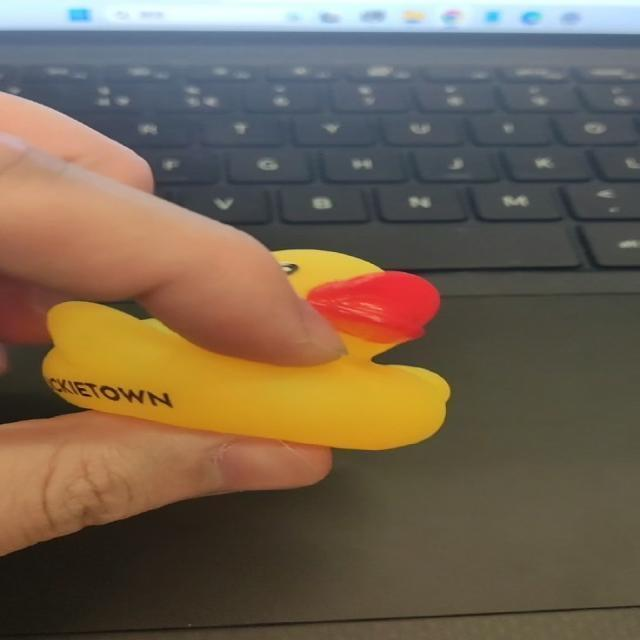rubber-duck: (42, 248, 448, 448)
